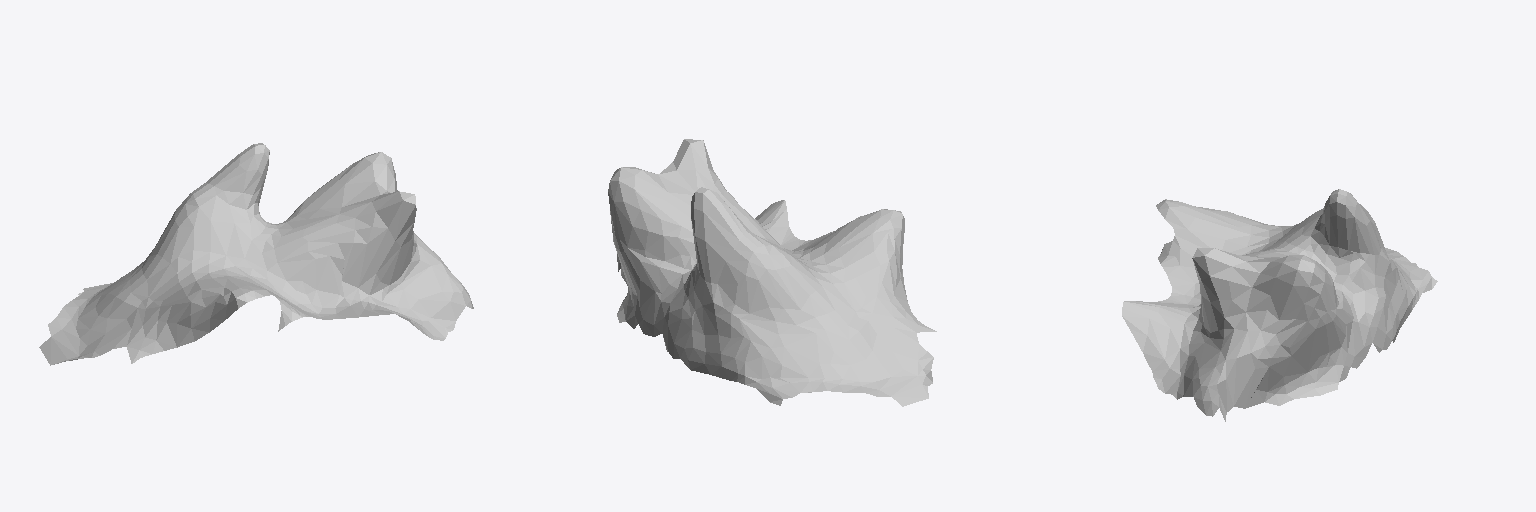
File: rocks_skybox_02.obj
3 views of the same model, side by side, from view 1: azimuth 30°, elevation 25°; view 2: azimuth 150°, elevation 25°; view 3: azimuth 270°, elevation 25° (orthographic).
Parts seen in each view (by area): view 1: rocks_skybox_02; view 2: rocks_skybox_02; view 3: rocks_skybox_02.
Boxes of the visible parts, box(x1,y1,x2,y2) form: rocks_skybox_02: box(39, 143, 473, 365); rocks_skybox_02: box(608, 139, 936, 406); rocks_skybox_02: box(1122, 189, 1437, 421).
Bounding box in the file's own units: 1396 × 592 × 1042.